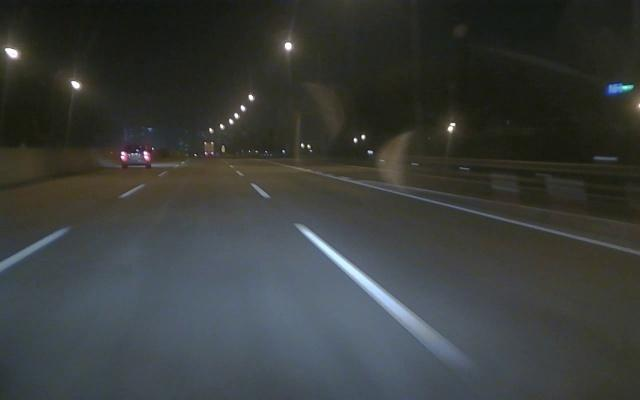lane: (252, 186, 474, 369), (332, 176, 638, 256), (1, 186, 141, 272)
